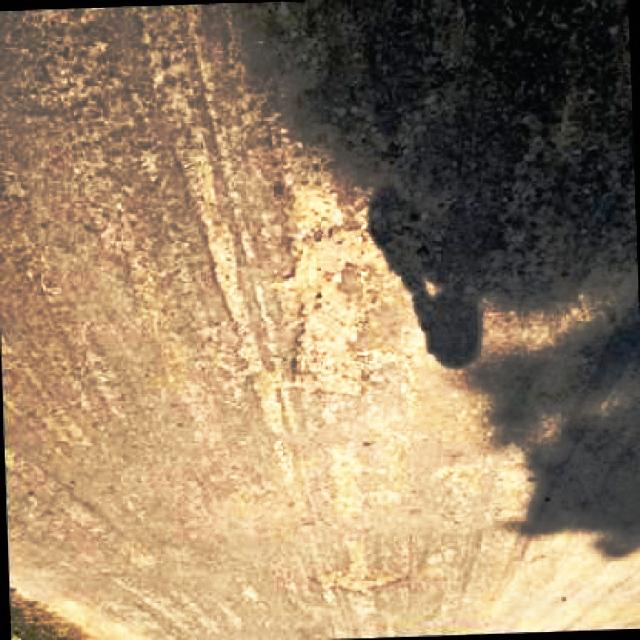pothole: (269, 175, 380, 398), (323, 537, 394, 601)
